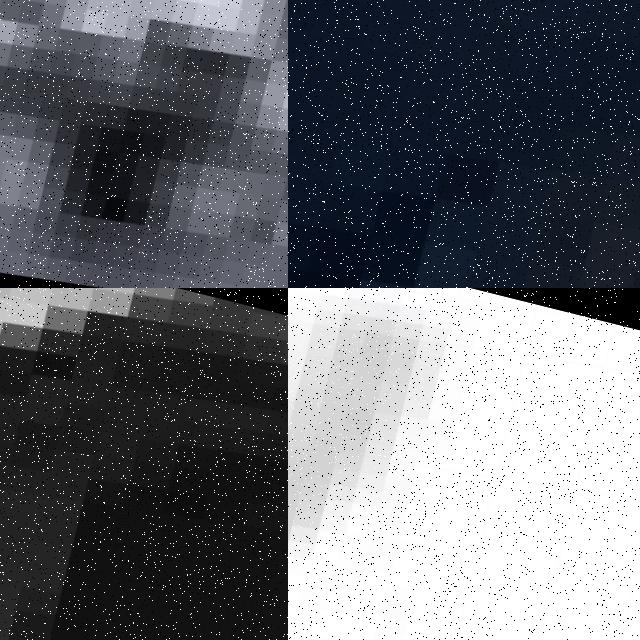0: (0, 0, 288, 288)
drone: (288, 288, 640, 640), (288, 0, 640, 288), (0, 288, 288, 640)
